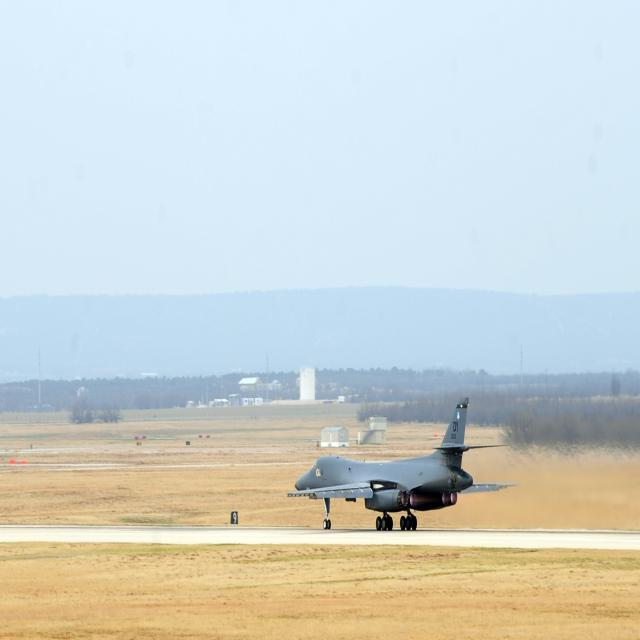MIL_Plane: (280, 422, 513, 492)
